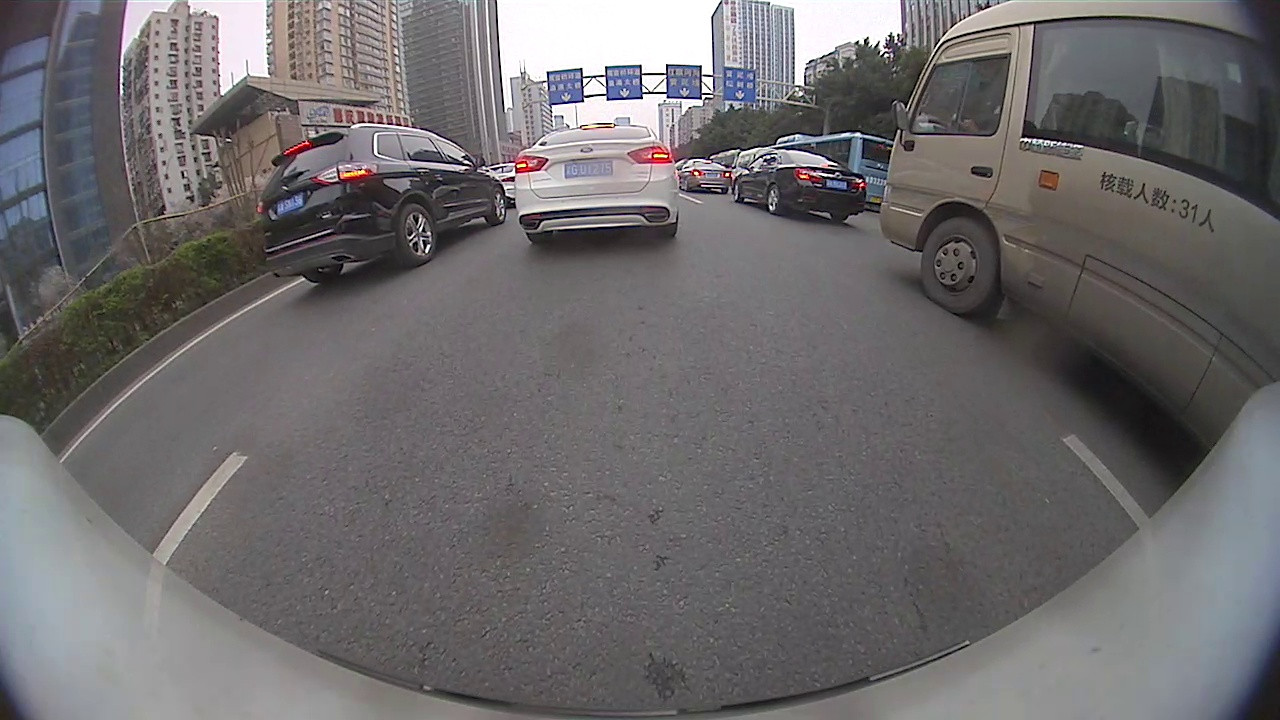bus: (881, 1, 1278, 451), (765, 132, 892, 204)
car: (258, 120, 506, 285), (516, 123, 679, 244), (732, 152, 867, 225), (680, 160, 732, 195), (487, 161, 516, 203)
front: (918, 217, 1000, 317), (484, 190, 507, 225), (731, 178, 744, 202)
rear: (394, 201, 441, 263), (766, 182, 782, 214)
